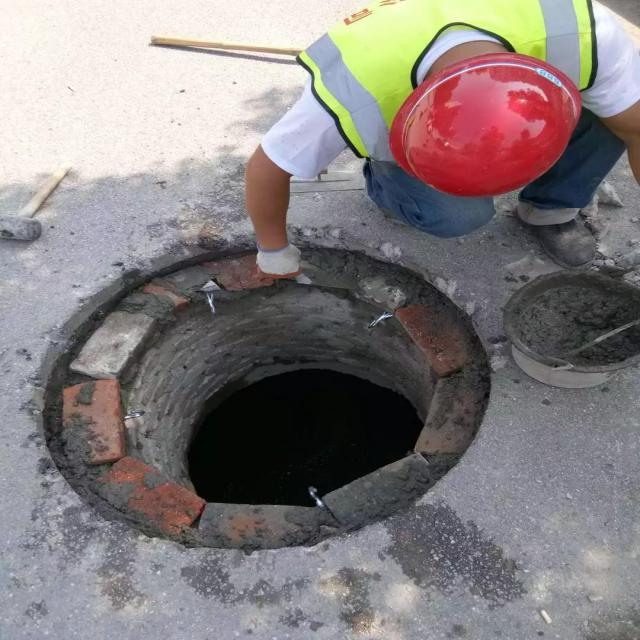Reflective-Jacket: (302, 4, 597, 158)
Safety-Helmet: (386, 52, 584, 198)
